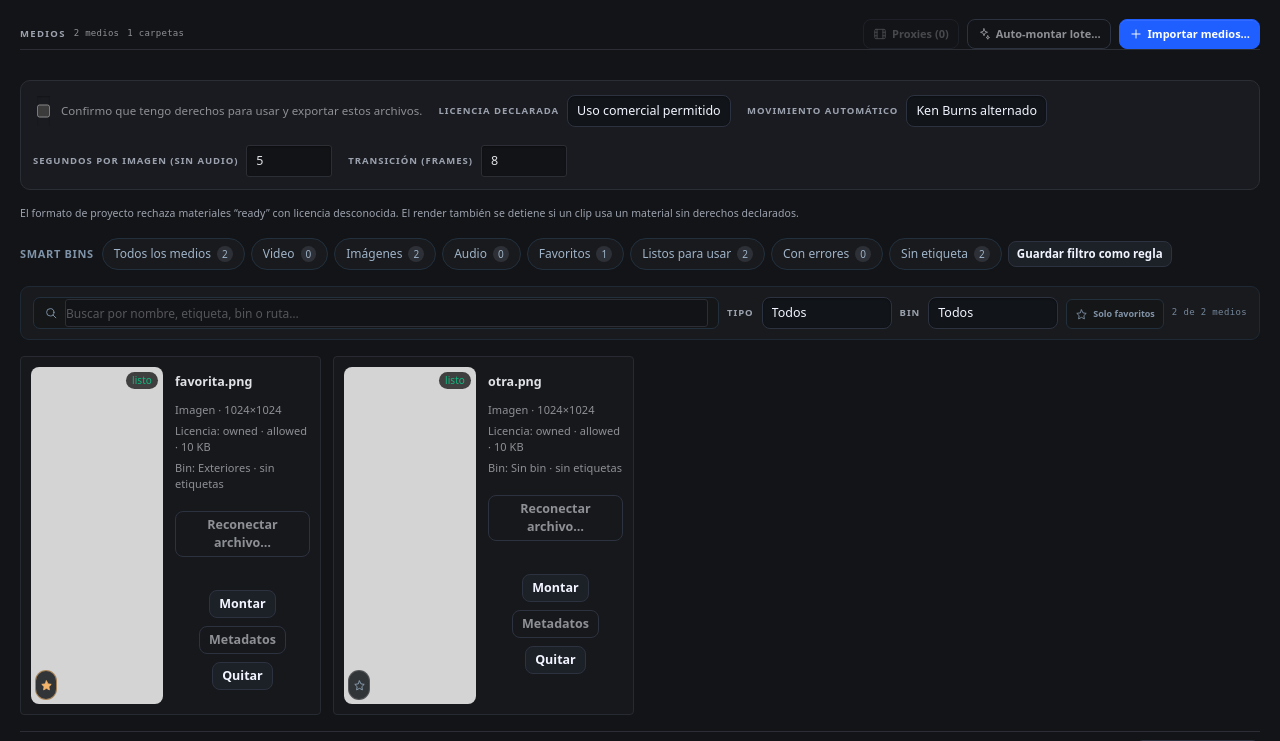
Scenario: AssetsPanel · organización de medios › guarda el filtro actual como una regla propia
Type "favorita" into the search field named "Buscar en la biblioteca de medios". click: (387, 313)
box: [65,299,708,327]
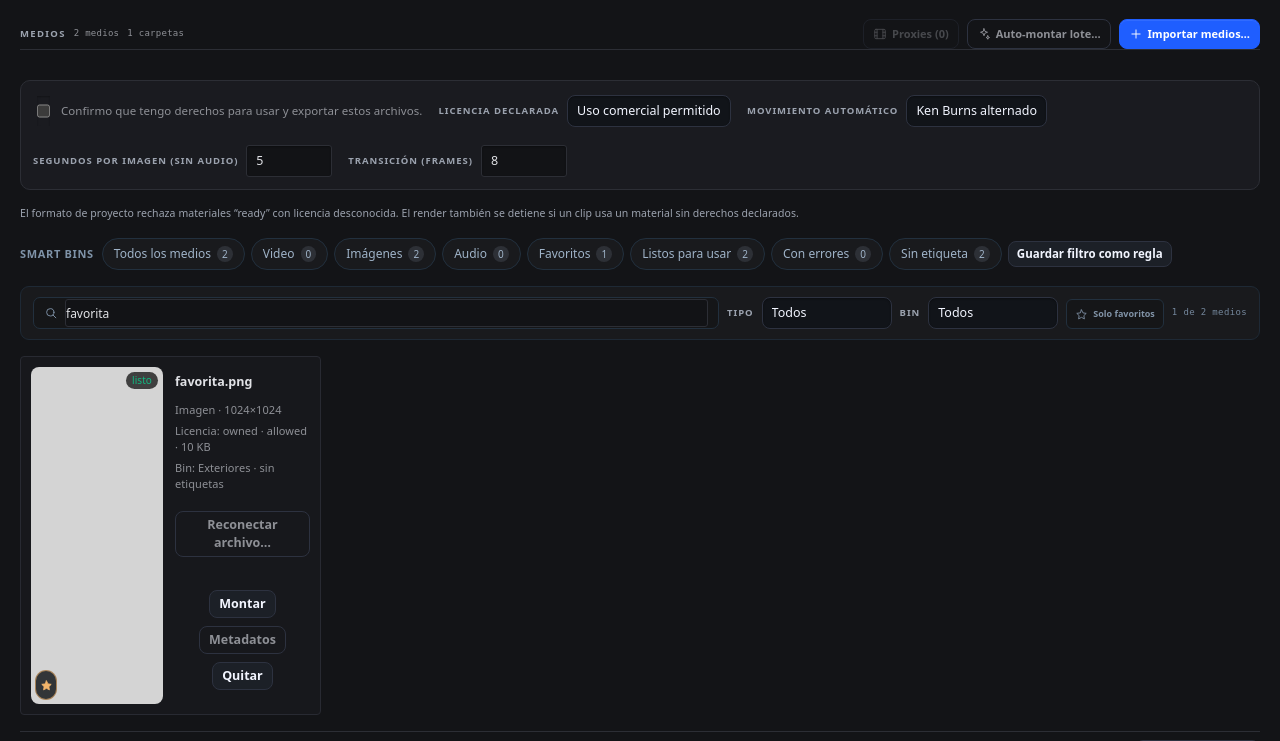
Click the button "Guardar filtro como regla". click: (1090, 254)
box: [1008,241,1172,267]
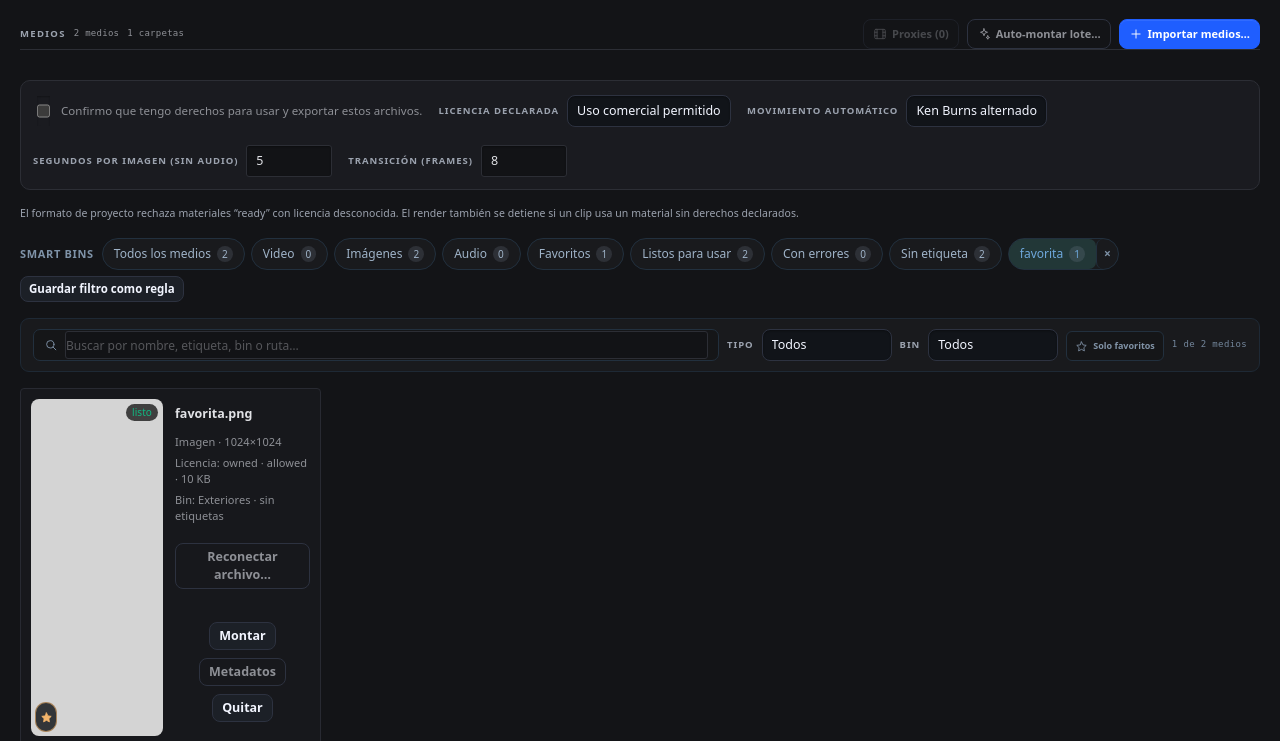
Check: the button "favorita.png" is shown, box [175,399,310,429]
Check: the element with class "smart-bins" shows "favorita", box [1009,239,1096,269]
